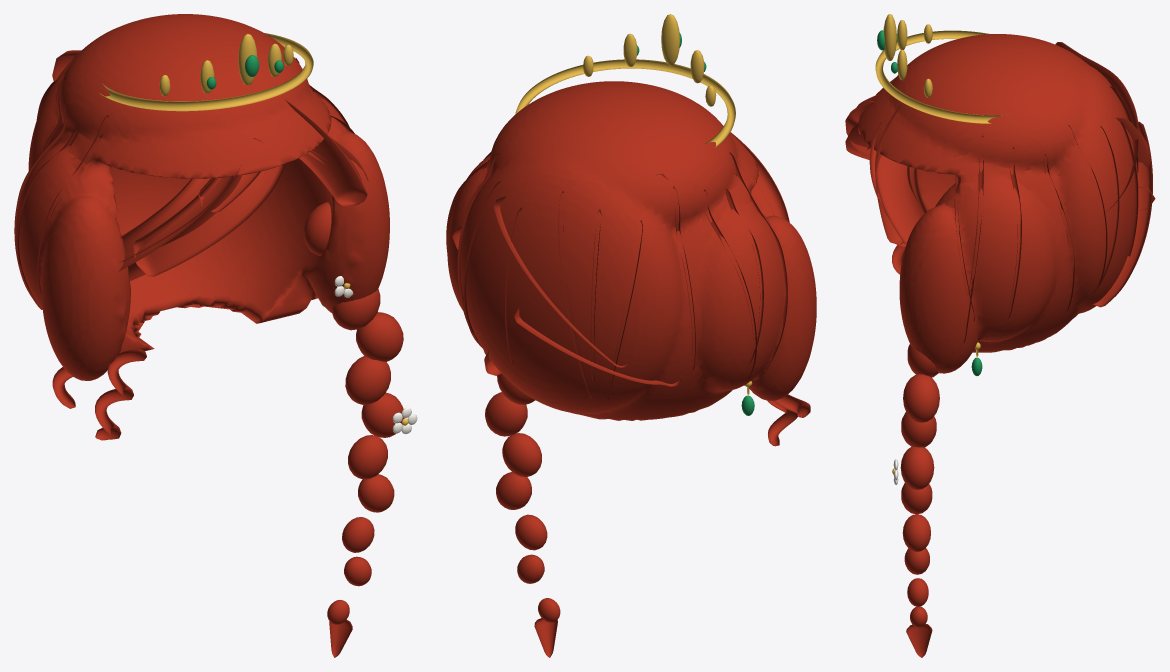
File: hair-braids.glb
3 renders of one model, left to right at view 1: azimuth 30°, elevation 25°; view 2: azimuth 150°, elevation 25°; view 3: azimuth 270°, elevation 25°, orthographic. The views are drawn at different scales.
Parts seen in each view (by area): view 1: cap, waves, braid, tiara, grooves, flowers; view 2: cap, braid, grooves, tiara, waves, rolls; view 3: cap, braid, waves, rolls, tiara, grooves.
Boxes of the visible parts, <box> form: cap: <box>17,14,389,380</box>; waves: <box>52,95,368,440</box>; braid: <box>303,202,404,657</box>; tiara: <box>99,33,313,111</box>; grooves: <box>14,56,354,309</box>; flowers: <box>334,276,417,434</box>; cap: <box>447,81,816,420</box>; braid: <box>483,350,560,657</box>; grooves: <box>446,152,787,400</box>; tiara: <box>515,14,735,149</box>; waves: <box>730,132,810,446</box>; rolls: <box>452,173,681,386</box>; cap: <box>858,34,1138,373</box>; braid: <box>900,344,939,657</box>; waves: <box>845,94,927,274</box>; rolls: <box>1055,42,1155,307</box>; tiara: <box>875,14,1007,123</box>; grooves: <box>954,80,1138,343</box>.
Size of the model in its own units: 1.17 by 2.15 by 1.01.
